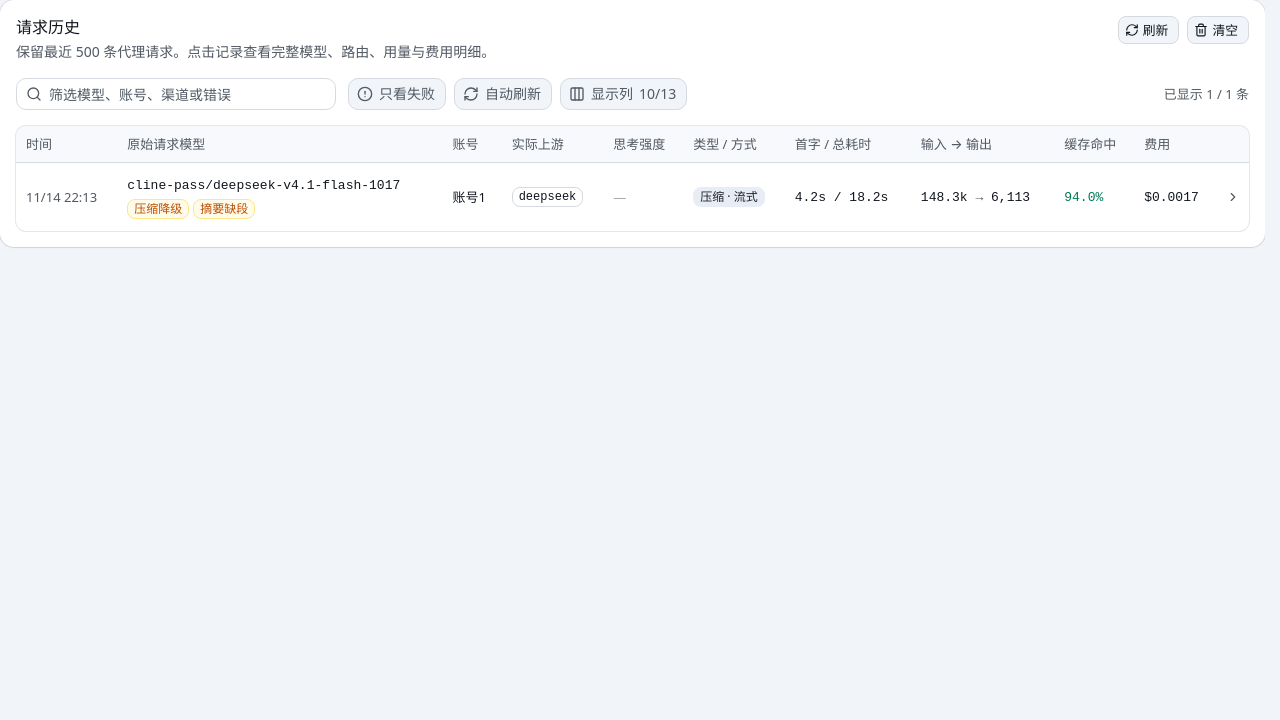
Test: compaction warnings keep their full reasons in the details
Expected: the text "压缩 · 流式" is shown, [693,186,765,206]
Expected: the text "压缩降级" is shown, [127,198,189,218]
Click the button named "查看请求详情". click: (1233, 196)
box: [1221,184,1245,208]
(page scrolled)
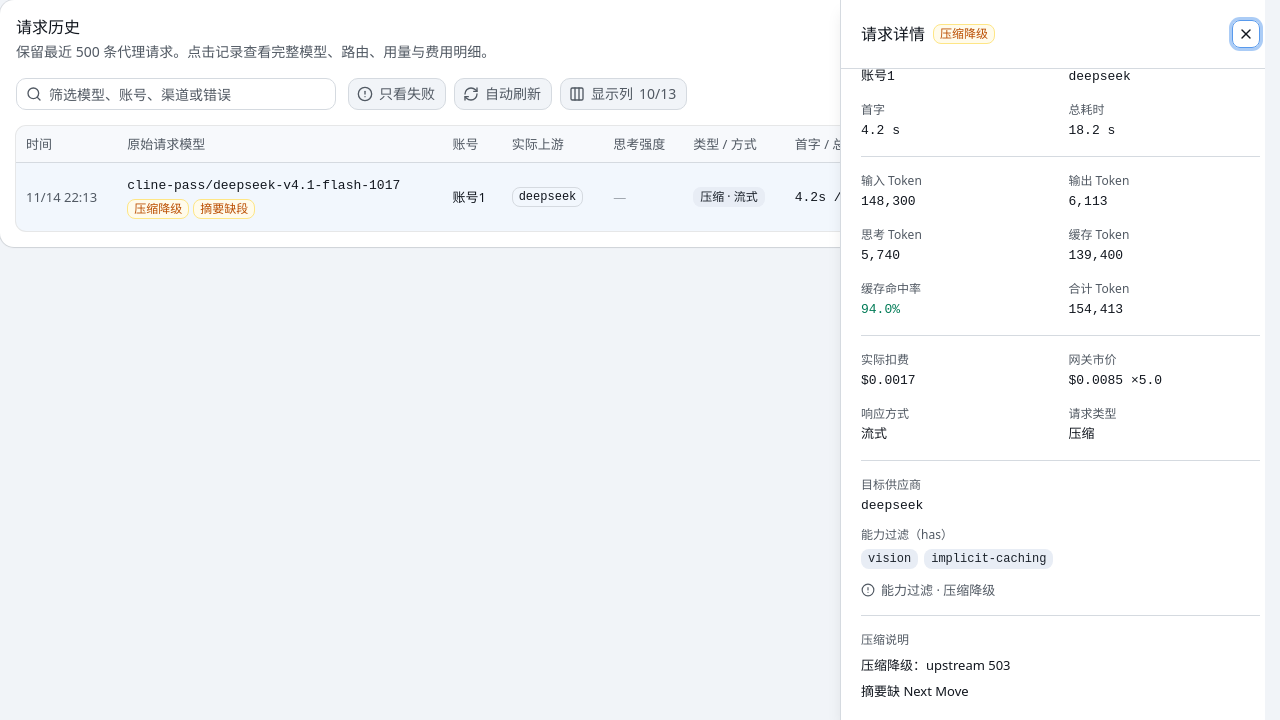
Expected: the text "摘要缺 Next Move" is shown, [861,682,969,700]
Expected: the text "压缩降级：upstream 503" is shown, [861,656,1010,674]
